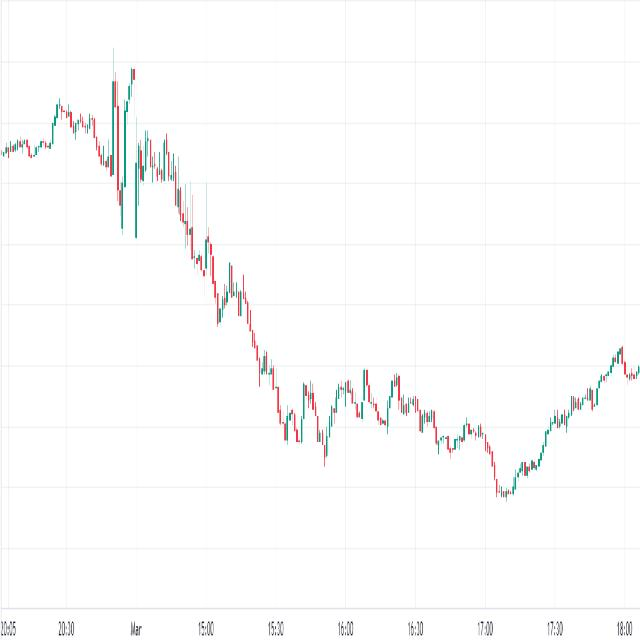Double-Bottom: (274, 360, 311, 458)
